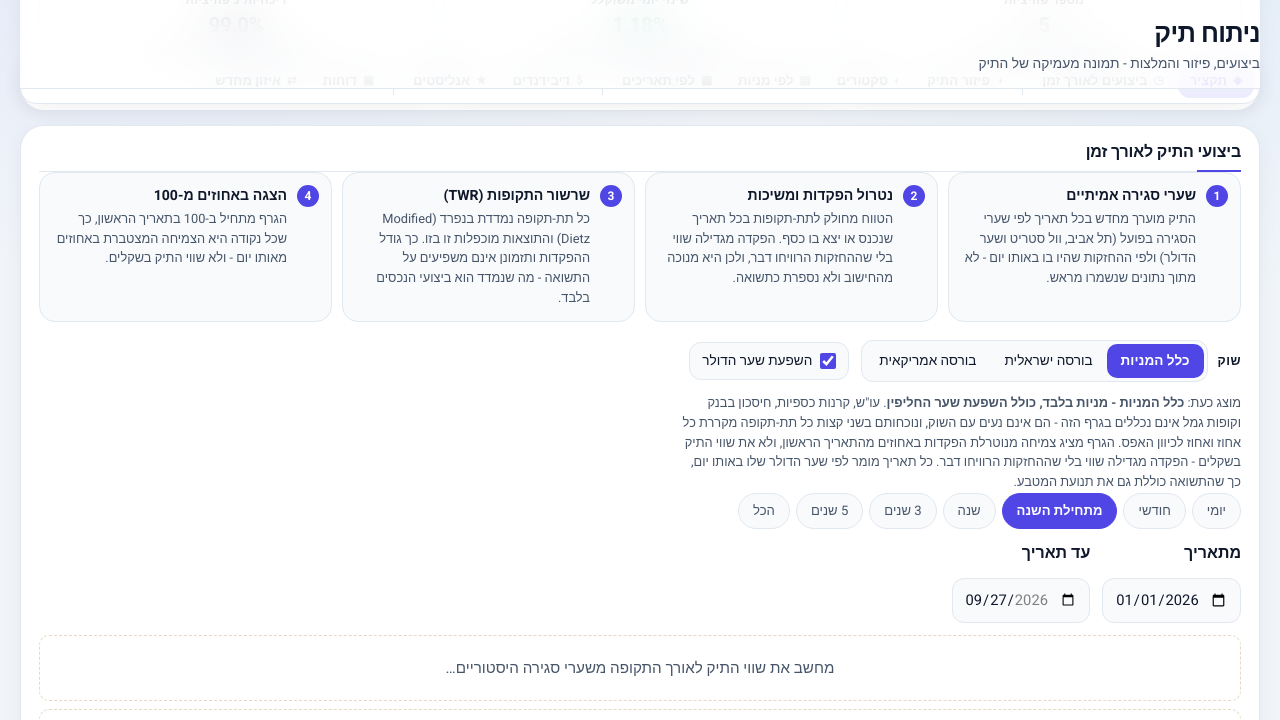
Test: PortfolioAnalysisView › market selection and the FX toggle › states in words what the current selection covers
(page scrolled)
Click the button "בורסה אמריקאית". click: (928, 361)
box: [865,344,990,378]
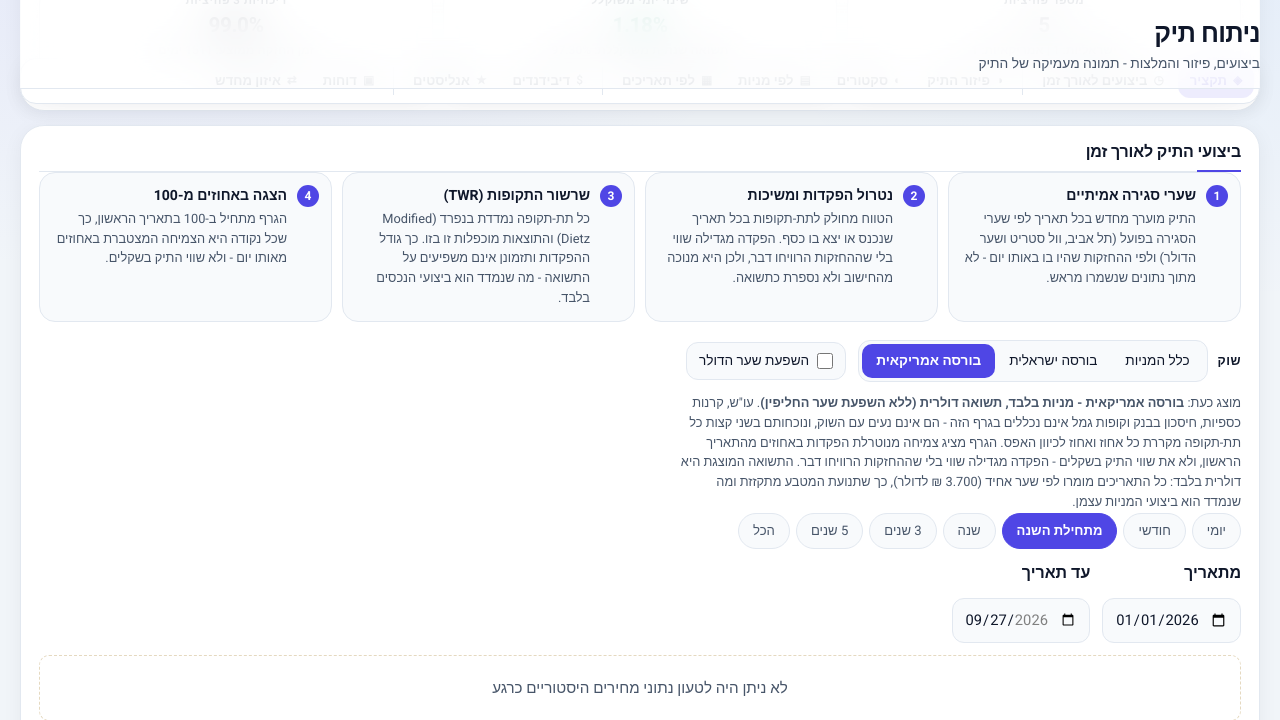
Expected: the element with class "segment-summary" shows "בורסה אמריקאית", [760,394,1184,412]
